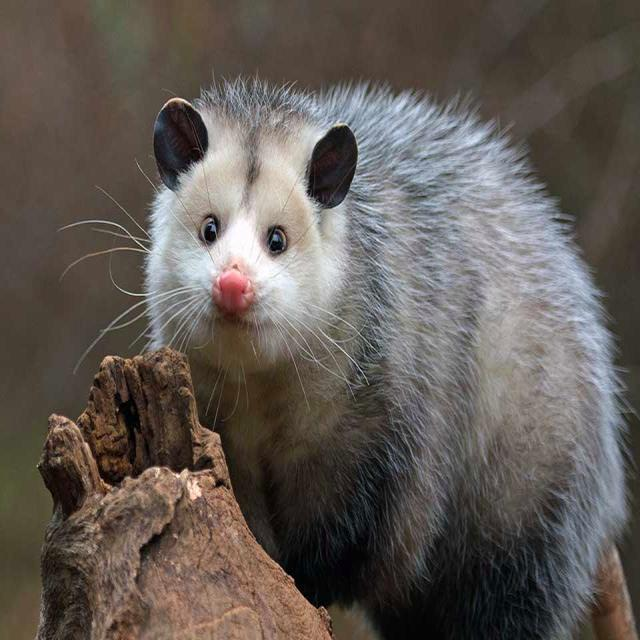possum: (145, 78, 629, 639)
